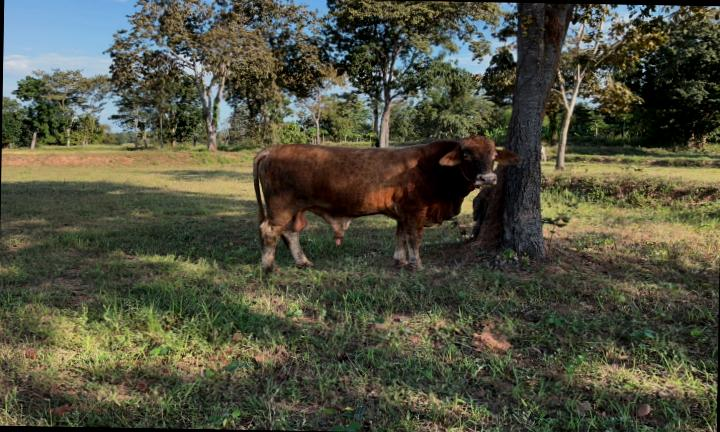Charolais: (253, 136, 521, 272)
